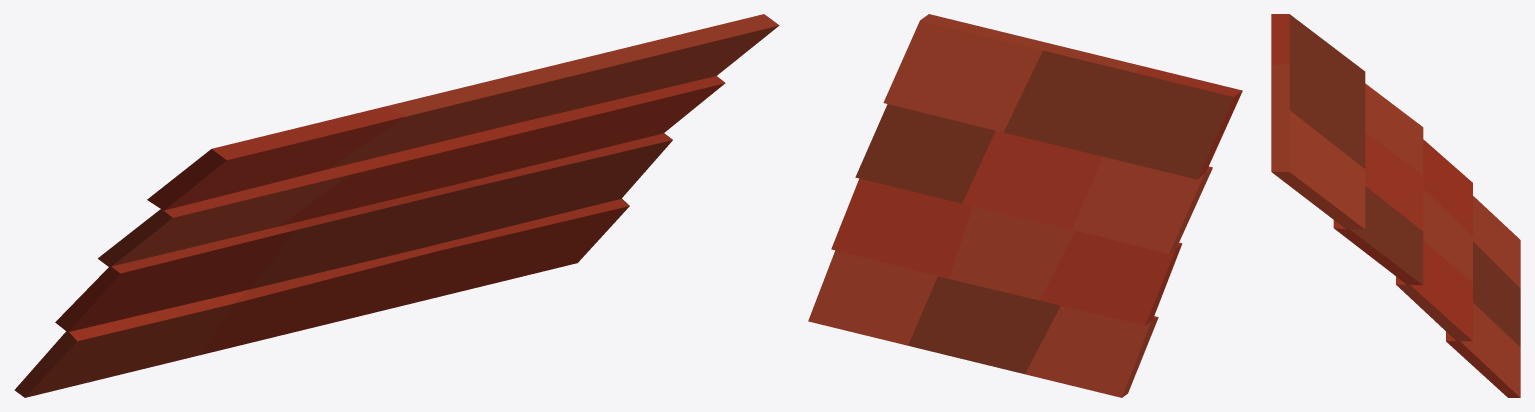
The model's file is roman_roof_tile_slanted.fbx.
3 views of the same model, side by side, from view 1: azimuth 30°, elevation 25°; view 2: azimuth 150°, elevation 25°; view 3: azimuth 270°, elevation 25° (orthographic). The views are drawn at different scales.
Parts seen in each view (by area): view 1: Plane.006; view 2: Plane.006; view 3: Plane.006.
Part boxes in pixels (bbox=[...]): Plane.006: bbox=[14, 14, 779, 397]; Plane.006: bbox=[808, 14, 1242, 397]; Plane.006: bbox=[1271, 14, 1520, 397].
Size of the model in its own units: 3.01 by 2 by 2.
Materials: 1 (1 with a texture image).
